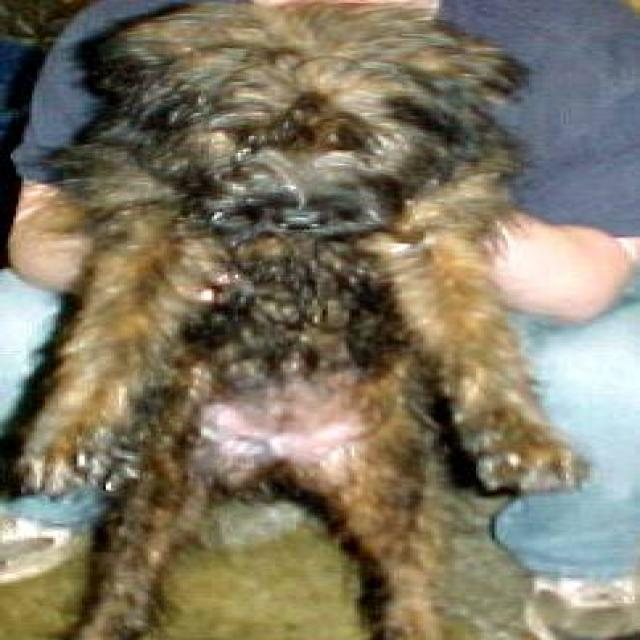dog: (5, 0, 592, 638)
